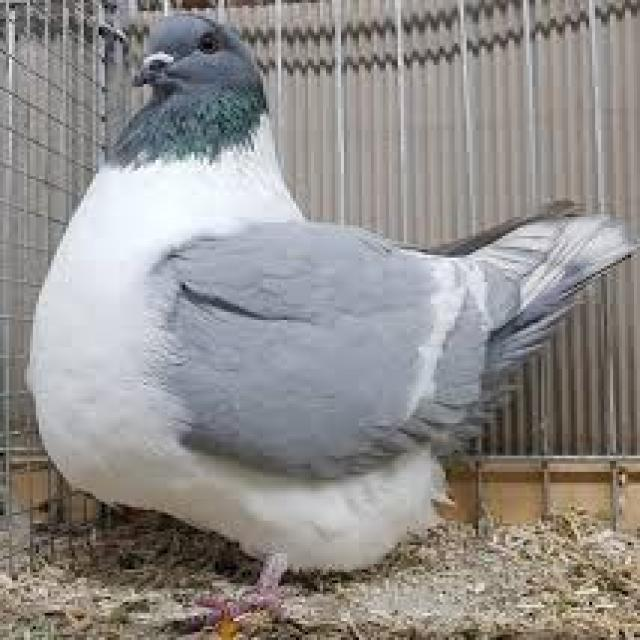pigeon: (16, 0, 640, 587)
